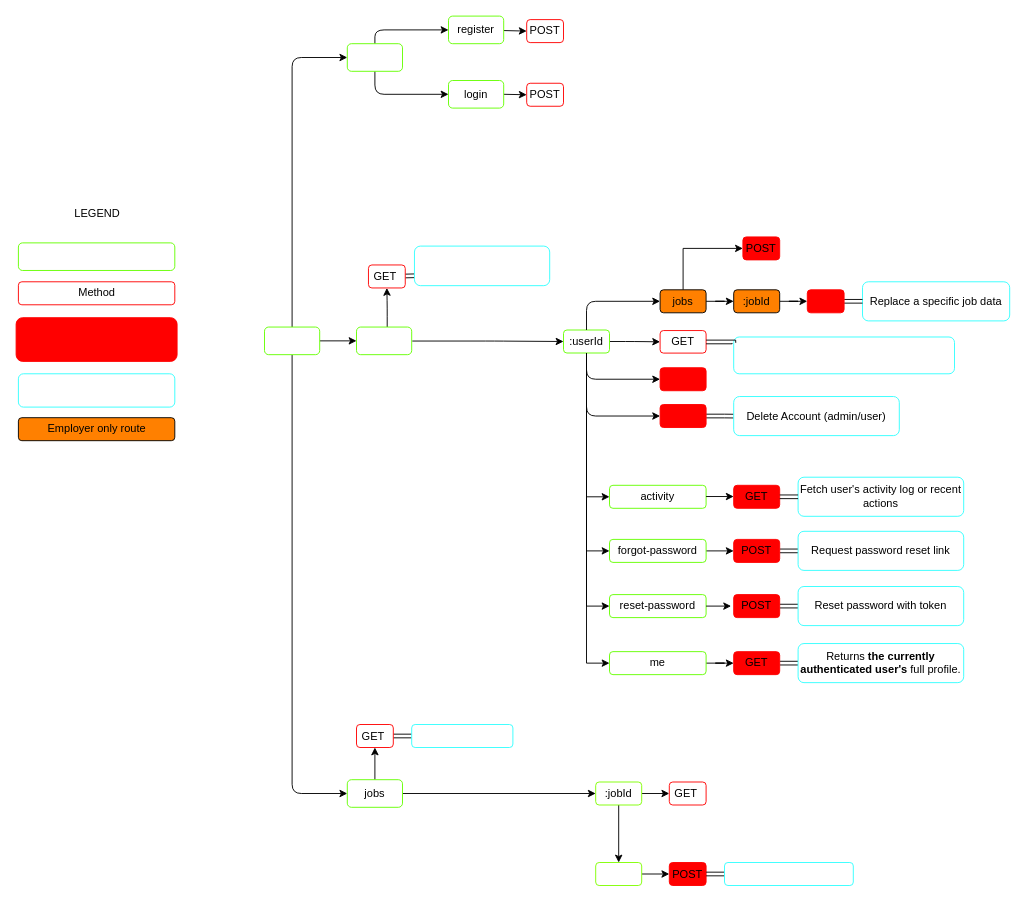
The diagram is 1026 pixels wide and 902 high, and some of its shapes have lost their labels. Here are the shapes that lost their labels. From the top down, the centre of each, then its label:
At (x=374, y=57): "auth".
At (x=96, y=256): "Route".
At (x=482, y=265): "Get list of users (admin only)".
At (x=825, y=301): "PUT".
At (x=96, y=339): "A method and it needs userToken to be used".
At (x=292, y=340): "/api/v1".
At (x=384, y=340): "users".
At (x=843, y=355): "This is used when viewing someone else’s profile or admin querying user records.".
At (x=96, y=390): "Description (Optional)".
At (x=682, y=379): "PATCH".
At (x=682, y=416): "DELETE".
At (x=462, y=736): "Retrieve list of jobs".
At (x=618, y=874): "apply".
At (x=788, y=874): "User applies to a job".
